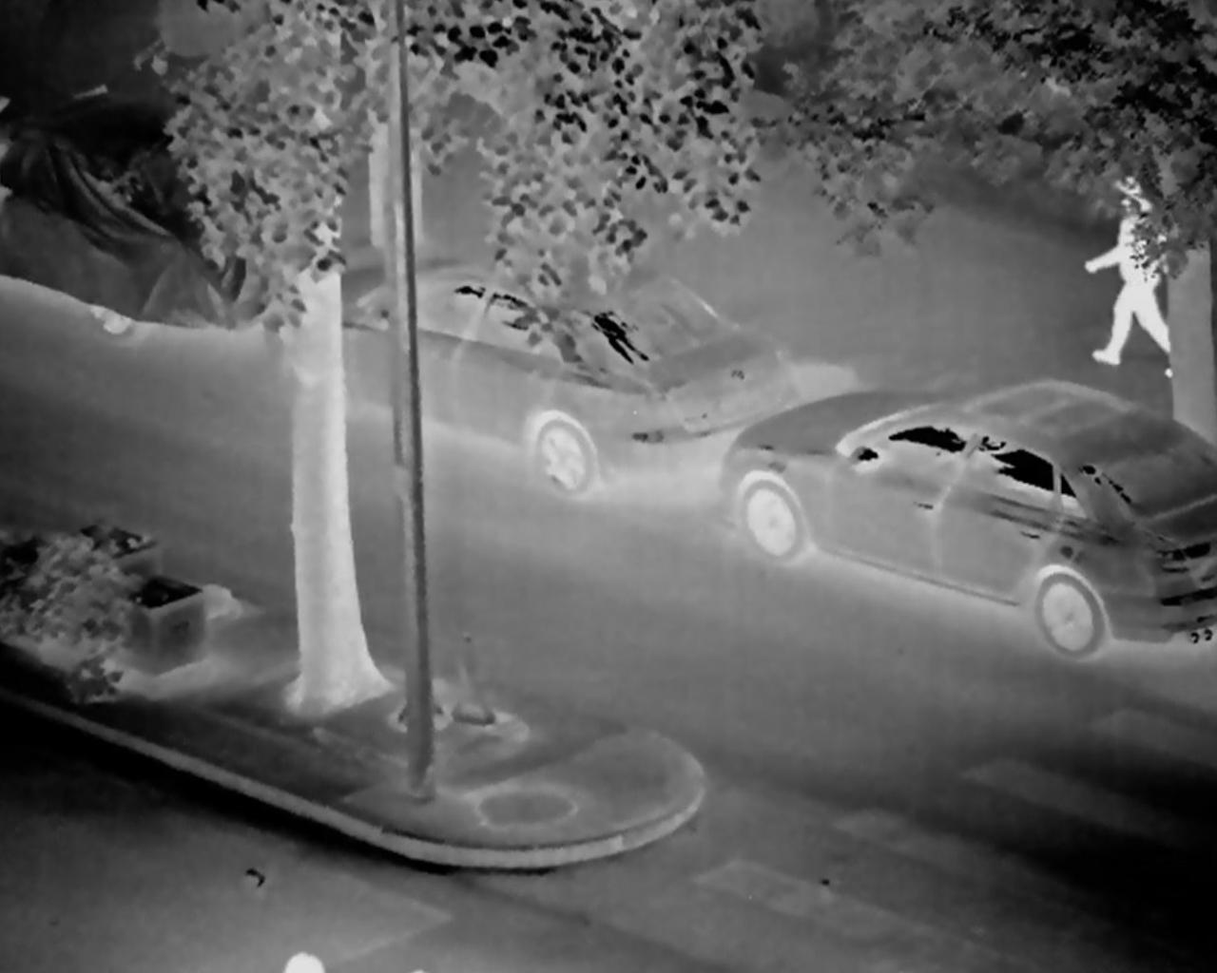person: (1081, 172, 1173, 375)
